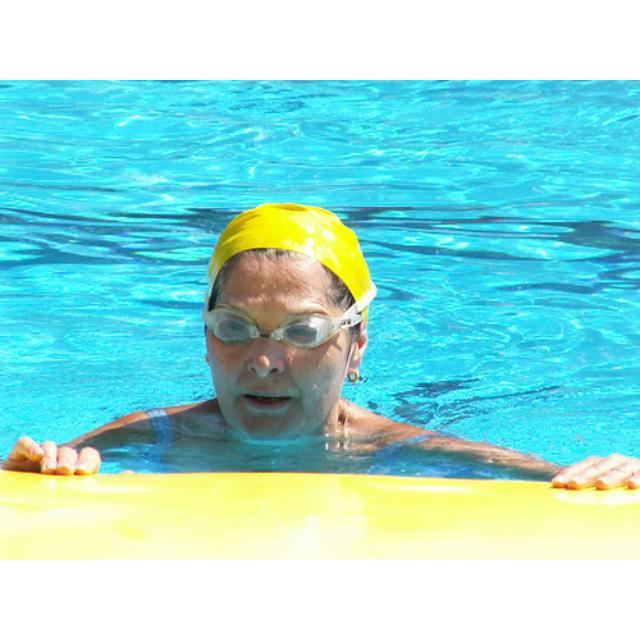human: (11, 187, 401, 472)
